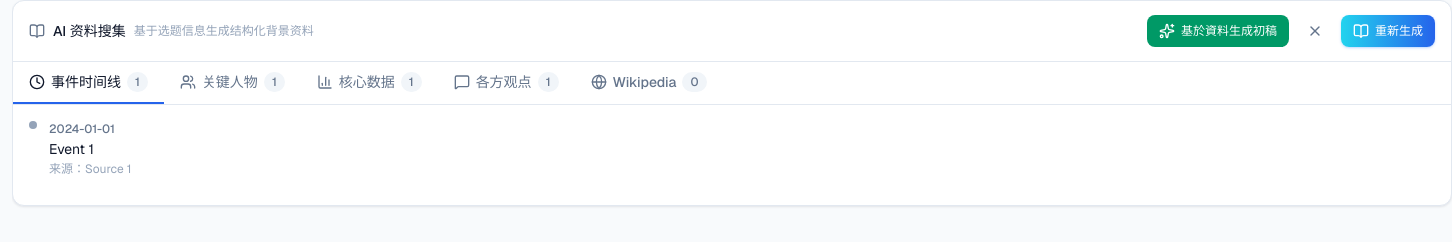
Test: ResearchKitPanel › should switch tabs and render corresponding content
The image size is (1452, 242).
Expected: the text "Event 1" is shown, [49,140,94,158]
Note: Switch to people tab
Click the button "关键人物 1" at (232, 83), box [164,62,301,104]
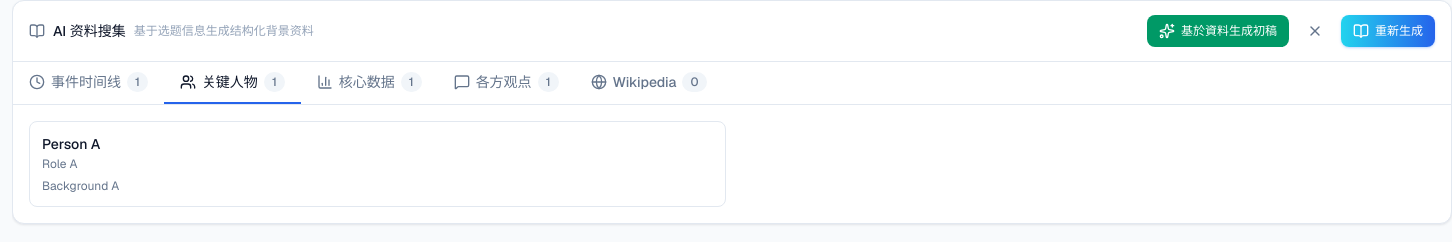
Result: the text "Person A" is shown at [42,135,100,153]
Result: the text "Role A" is shown at [42,156,78,172]
Note: Switch to data tab
Click the button "核心数据 1" at (369, 83), box [301,62,438,104]
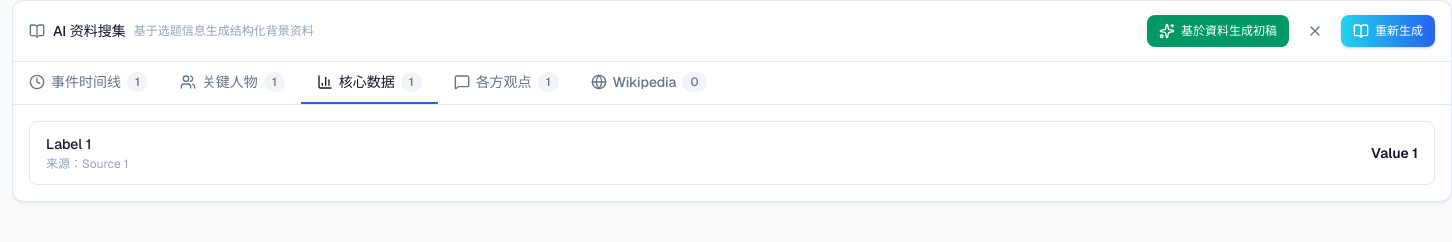
Result: the text "Label 1" is shown at [46,135,91,153]
Result: the text "Value 1" is shown at [1371,143,1418,163]
Note: Switch to opinions tab
Click the button "各方观点 1" at (506, 83), box [438,62,574,104]
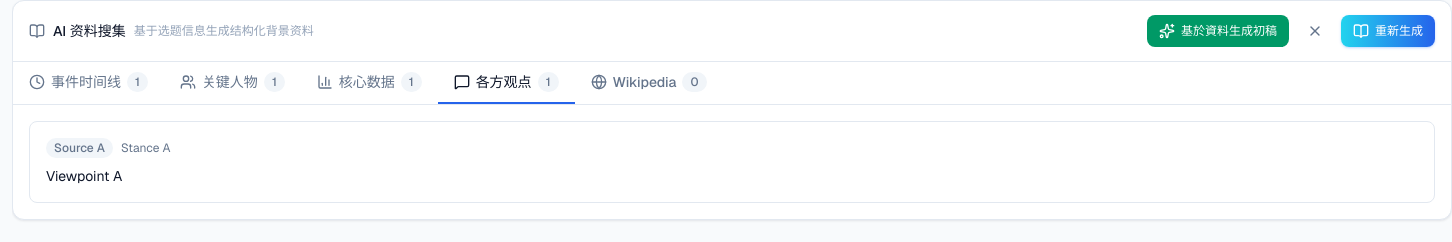
Result: the text "Viewpoint A" is shown at [46,167,122,185]
Result: the text "Source A" is shown at [46,138,113,158]
